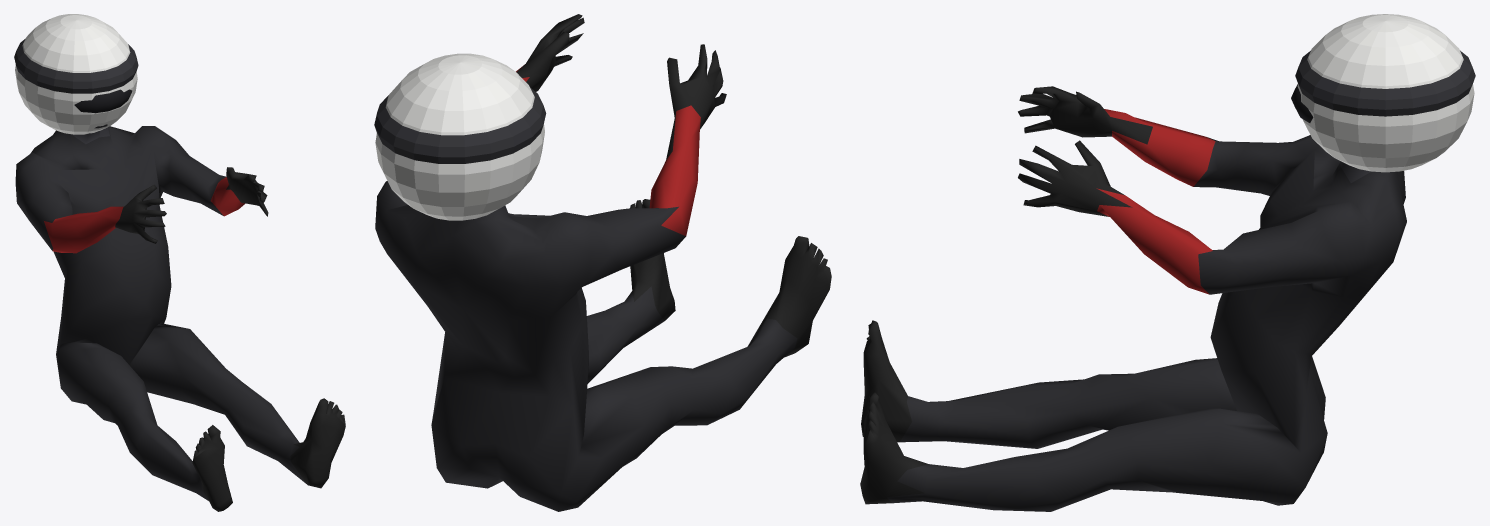
The model's file is driver_7.glb.
3 views of the same model, side by side, from view 1: azimuth 30°, elevation 25°; view 2: azimuth 150°, elevation 25°; view 3: azimuth 270°, elevation 25° (orthographic). The views are drawn at different scales.
Visible parts, largest first — view 1: driver_7 people, driver_7; view 2: driver_7 people, driver_7; view 3: driver_7 people, driver_7.
Part boxes in pixels (x1,y1,x2,y2): driver_7 people: (15, 124, 345, 511); driver_7: (14, 14, 138, 134); driver_7 people: (375, 14, 831, 511); driver_7: (374, 53, 546, 220); driver_7 people: (860, 86, 1406, 511); driver_7: (1291, 14, 1475, 172).
Bounding box in the file's own units: 0.5243 × 0.9272 × 1.12.
